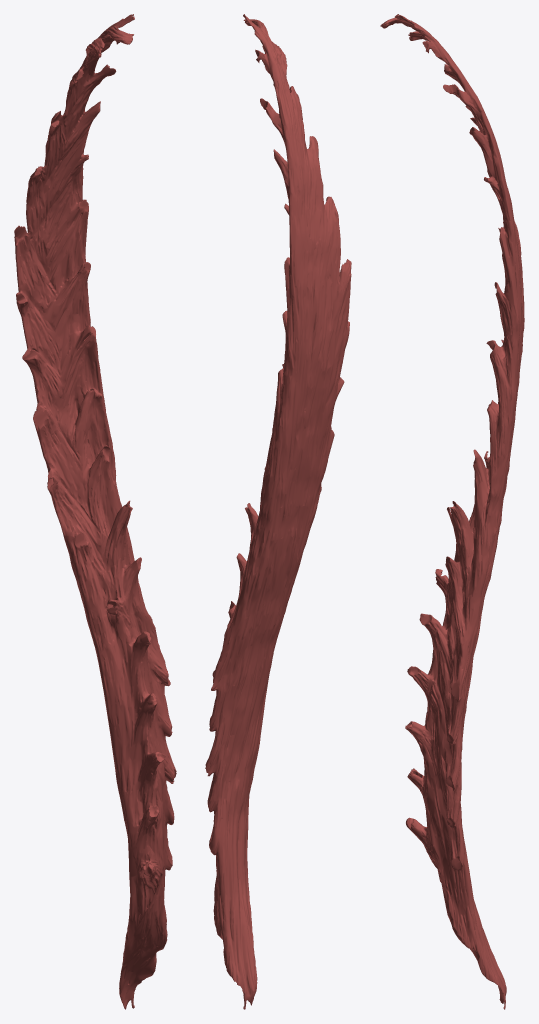
File: FMA22751.glb
The picture shows the model from 3 angles, left to right: view 1: azimuth 30°, elevation 25°; view 2: azimuth 210°, elevation 25°; view 3: azimuth 270°, elevation 25°; orthographic projection. The views are drawn at different scales.
Visible parts, largest first — view 1: FMA22751; view 2: FMA22751; view 3: FMA22751.
Part boxes in pixels (bbox=[...]): FMA22751: bbox=[14, 14, 176, 1009]; FMA22751: bbox=[205, 14, 351, 1009]; FMA22751: bbox=[380, 14, 524, 1009].
Bounding box in the file's own units: 0.0698 × 0.531 × 0.0715.
